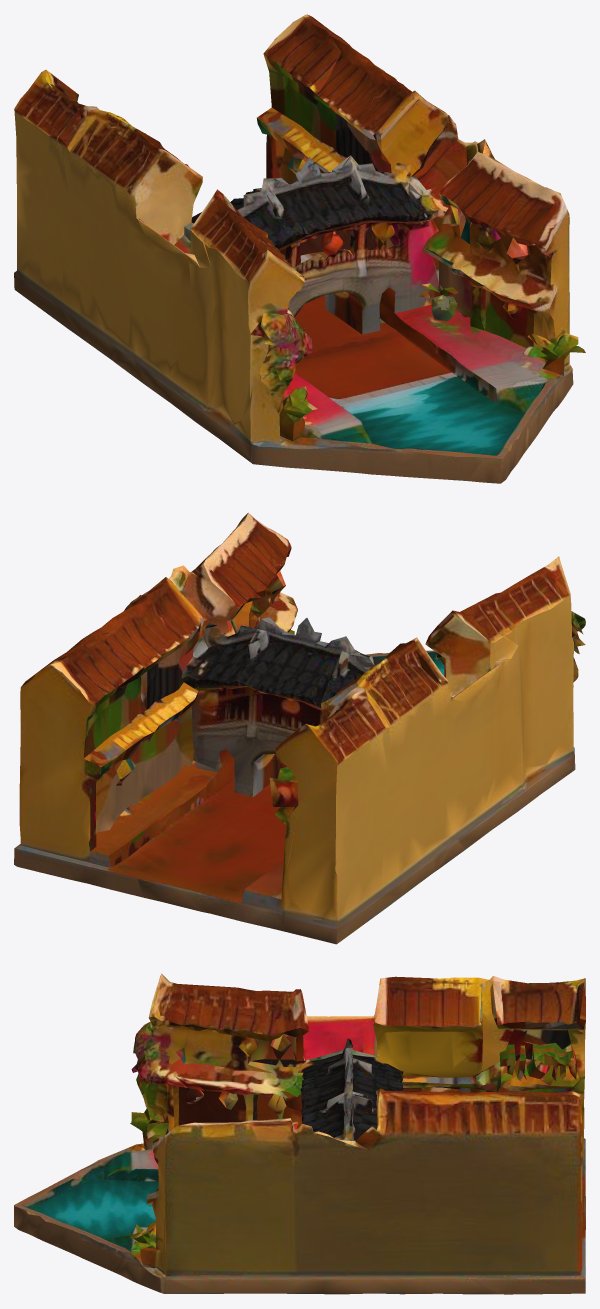
File: hoi-an-japanese-bridge.glb
3 views of the same model, one above another, from view 1: azimuth 30°, elevation 25°; view 2: azimuth 150°, elevation 25°; view 3: azimuth 270°, elevation 25° (orthographic). The views are drawn at different scales.
Parts seen in each view (by area): view 1: logan-textured.obj; view 2: logan-textured.obj; view 3: logan-textured.obj.
Part boxes in pixels (left/top/right/bottom): logan-textured.obj: left=14, top=14, right=585, bottom=483; logan-textured.obj: left=14, top=512, right=585, bottom=944; logan-textured.obj: left=14, top=973, right=585, bottom=1294.
Size of the model in its own units: 0.5878 by 0.3699 by 1.
1 material, 1 textured.
